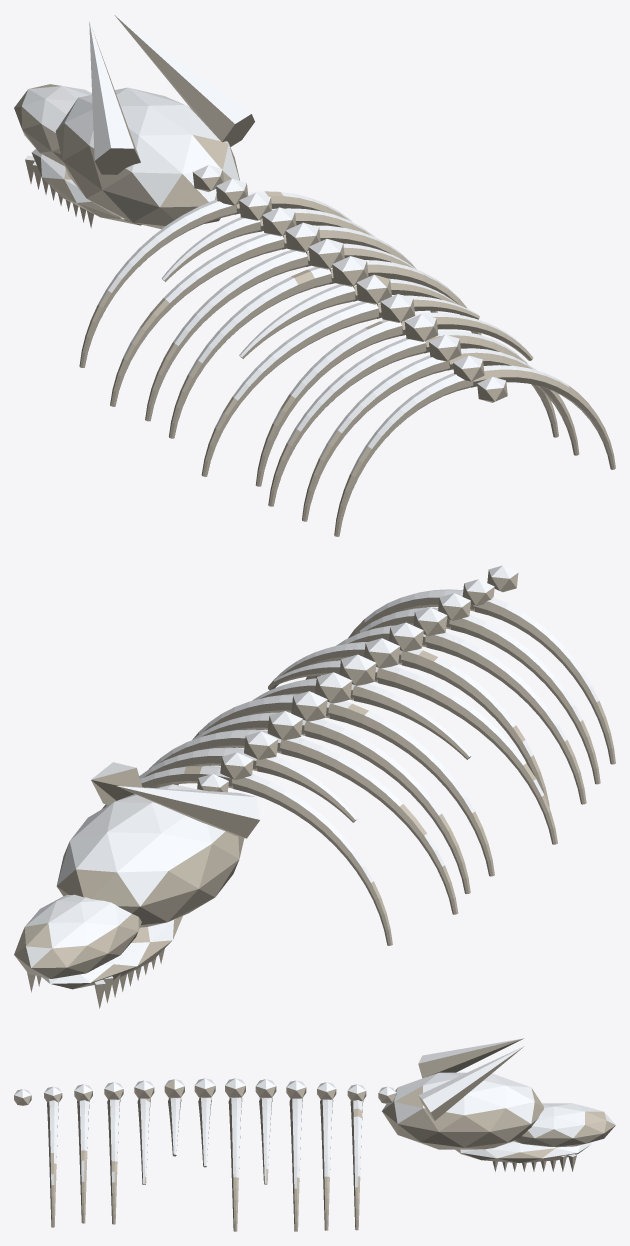
The model's file is dragon_ruin.glb.
3 renders of one model, top to bottom at view 1: azimuth 30°, elevation 25°; view 2: azimuth 150°, elevation 25°; view 3: azimuth 270°, elevation 25°, orthographic. The views are drawn at different scales.
Parts seen in each view (by area): view 1: dragon_ruin; view 2: dragon_ruin; view 3: dragon_ruin.
Boxes of the visible parts, bbox=[...] form: dragon_ruin: bbox=[14, 14, 615, 536]; dragon_ruin: bbox=[14, 565, 615, 1008]; dragon_ruin: bbox=[14, 1038, 615, 1231].
Size of the model in its own units: 12.17 by 7.64 by 29.72.
